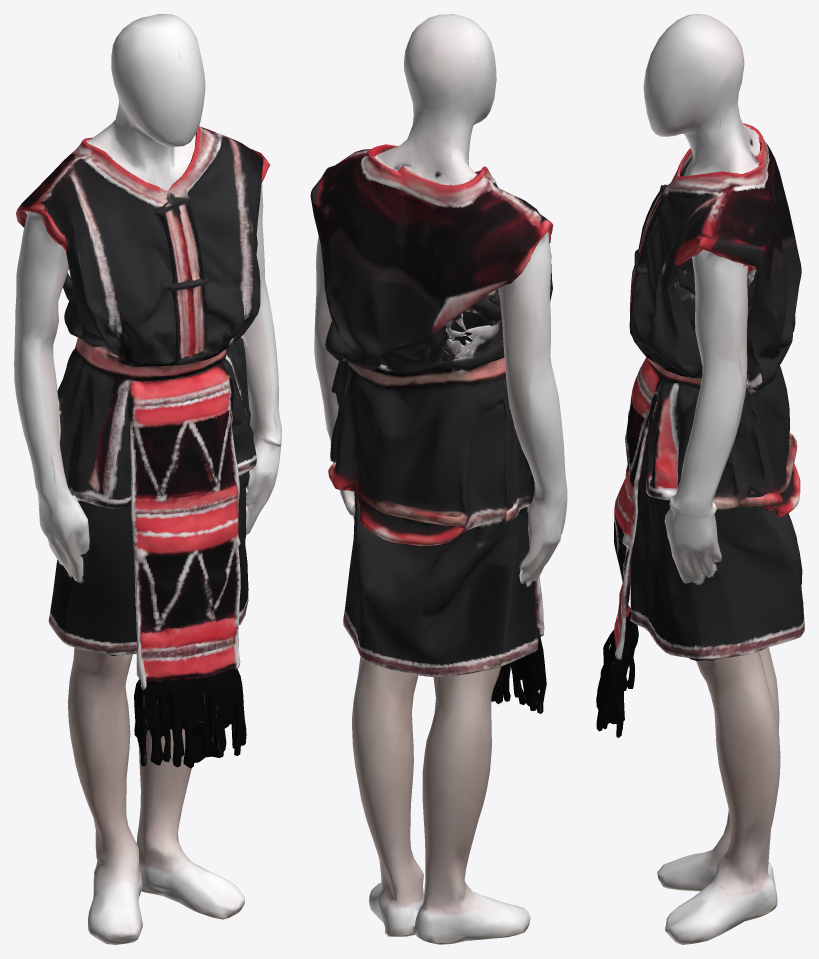
The model's file is Ro_mam_nam_00001.glb.
The picture shows the model from 3 angles, left to right: view 1: azimuth 30°, elevation 25°; view 2: azimuth 150°, elevation 25°; view 3: azimuth 270°, elevation 25°; orthographic projection.
Size of the model in its own units: 0.2529 by 0.8943 by 0.1901.
1 material, 1 textured.
